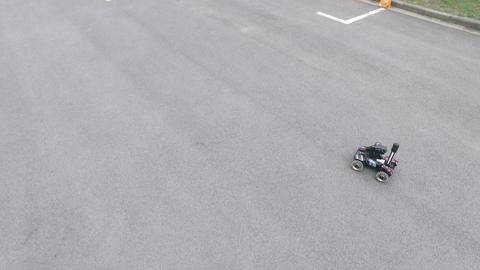chariot: (352, 139, 403, 183)
